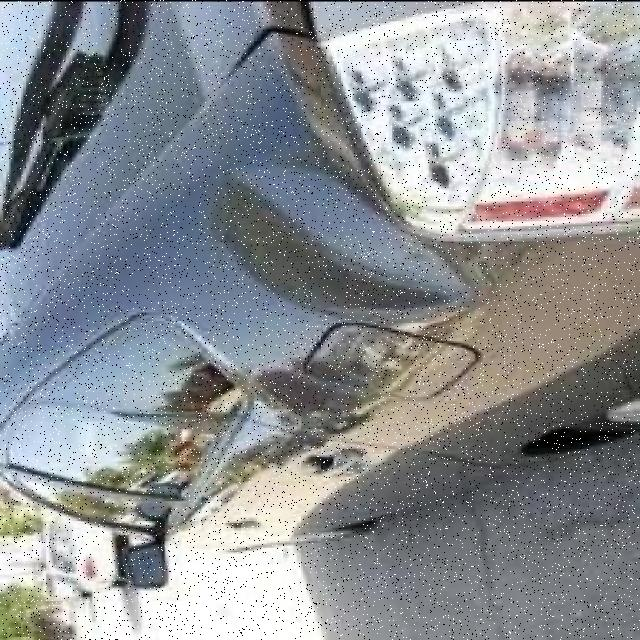damage: (221, 140, 488, 324)
